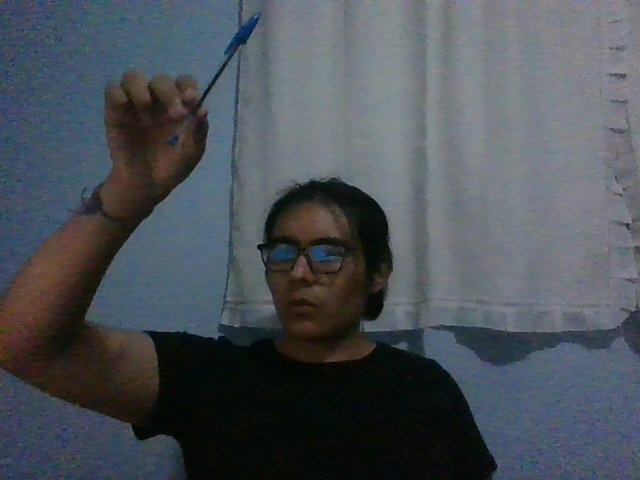pluma: (165, 10, 261, 147)
